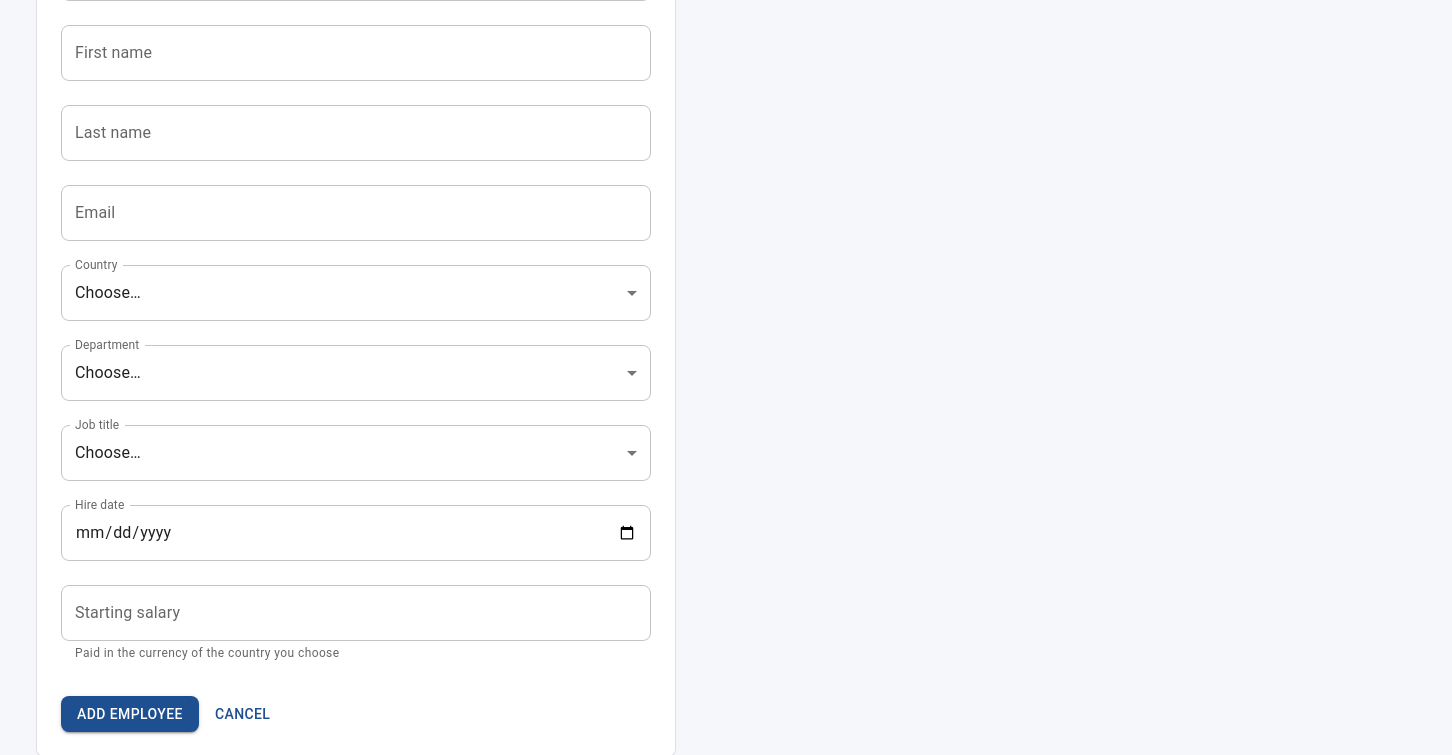
Test: adding an employee › clears a field's message as soon as it is edited, and leaves the others
The image size is (1452, 755).
(page scrolled)
Click the button "Add employee": {"x": 130, "y": 714} [61,696,199,732]
(page scrolled)
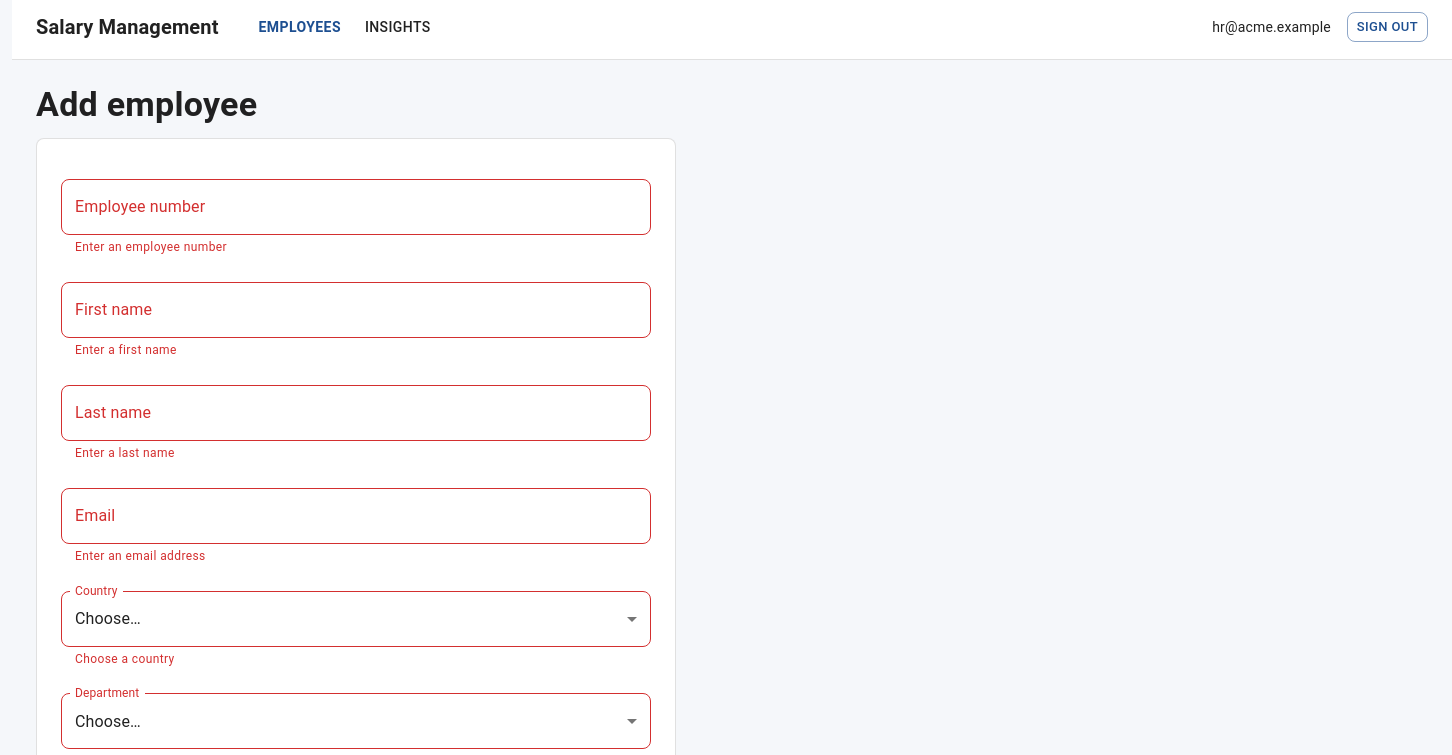
Check: the text "Enter an employee number" is shown, box [75,240,227,254]
Click the field labelled "Employee number": {"x": 356, "y": 207} [61,179,651,235]
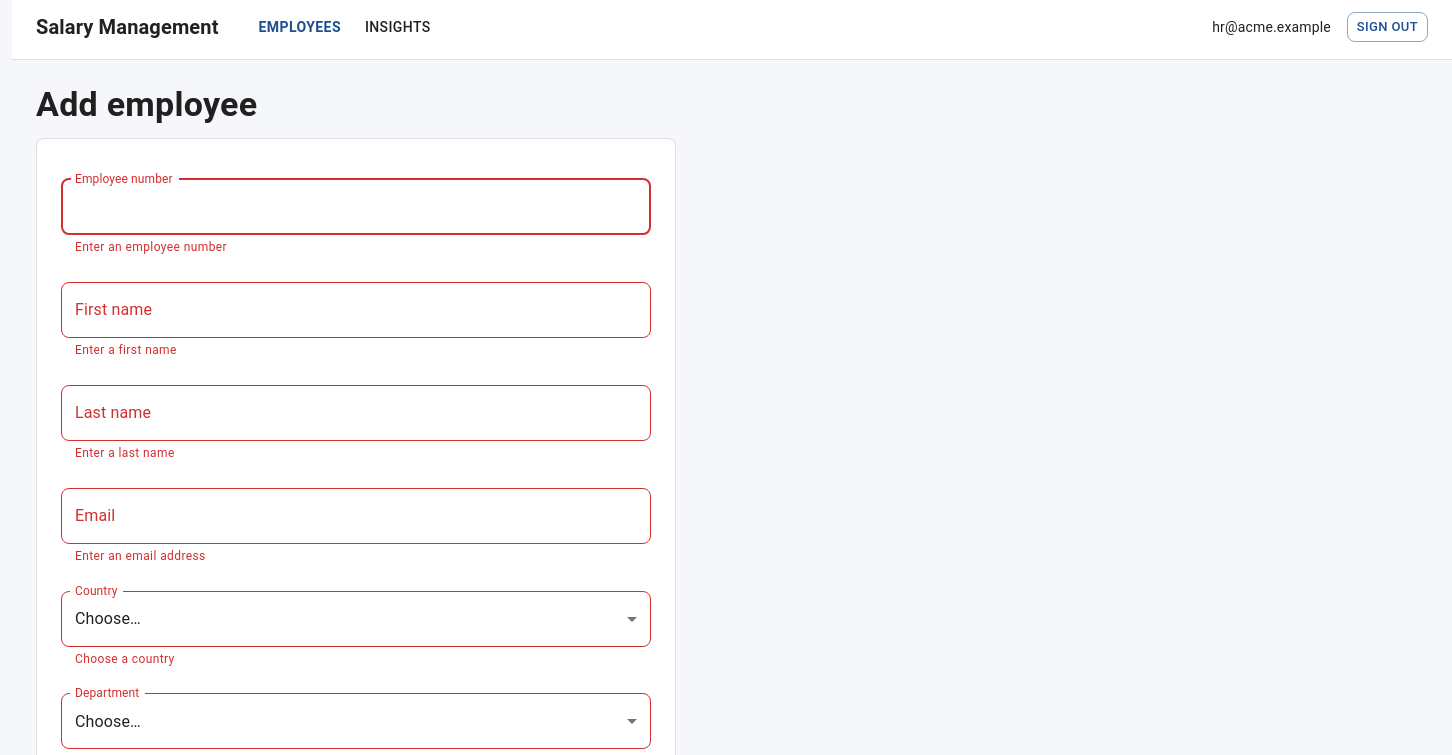
Type keys "E90001"
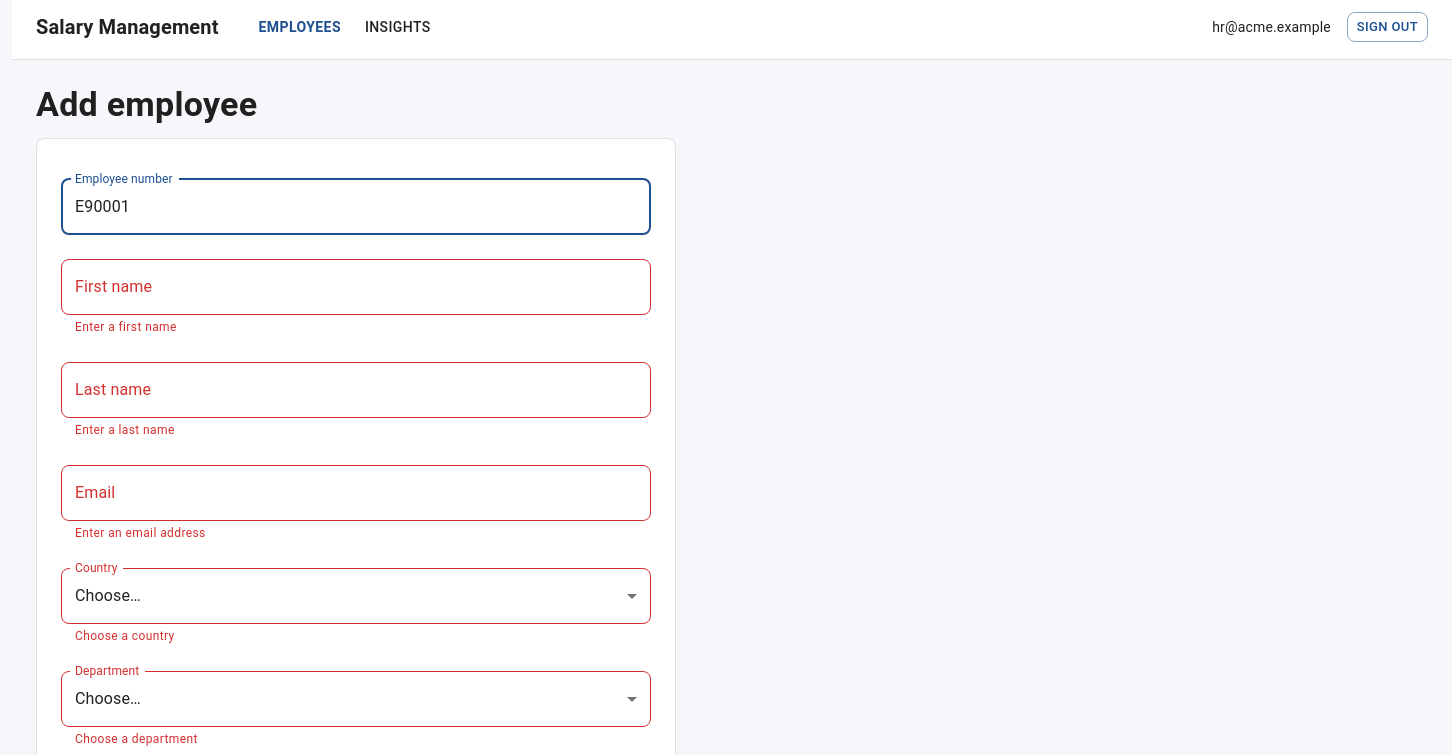
Check: the text "Enter a first name" is shown, box [75,320,177,334]
Check: the text "Enter an employee number" is gone
